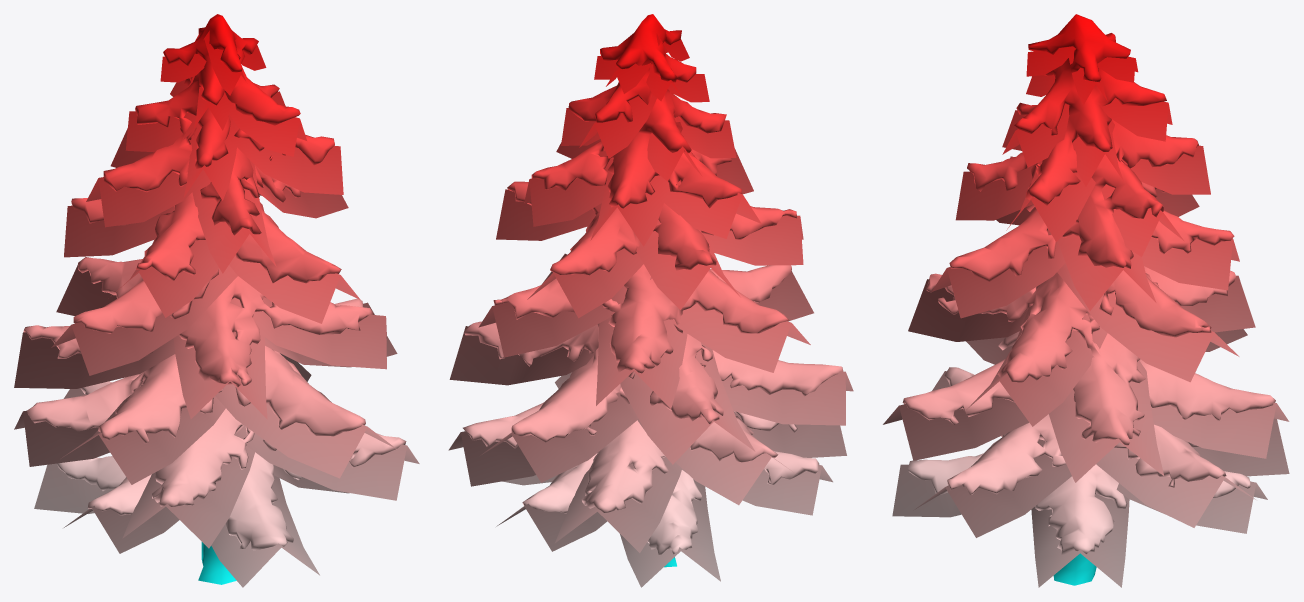
Rendered from PineTree02b.fbx.
3 views of the same model, side by side, from view 1: azimuth 30°, elevation 25°; view 2: azimuth 150°, elevation 25°; view 3: azimuth 270°, elevation 25° (orthographic). The views are drawn at different scales.
Parts seen in each view (by area): view 1: PineTree02b_LOD0; view 2: PineTree02b_LOD0; view 3: PineTree02b_LOD0.
Boxes of the visible parts, x1=… form: PineTree02b_LOD0: x1=14, y1=14, x2=419, y2=587; PineTree02b_LOD0: x1=448, y1=14, x2=853, y2=587; PineTree02b_LOD0: x1=883, y1=14, x2=1289, y2=587.
Size of what is drawn, in the model's own units: 552 by 826 by 543.
